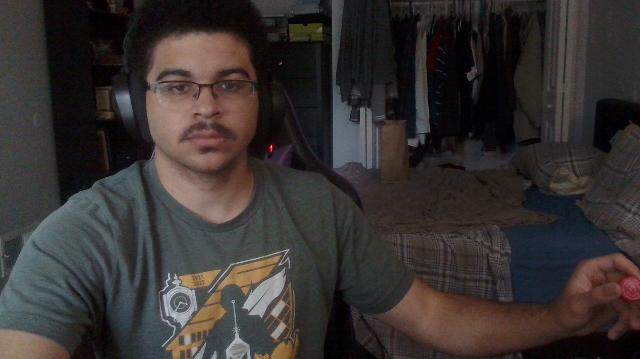cap: (618, 276, 640, 302)
